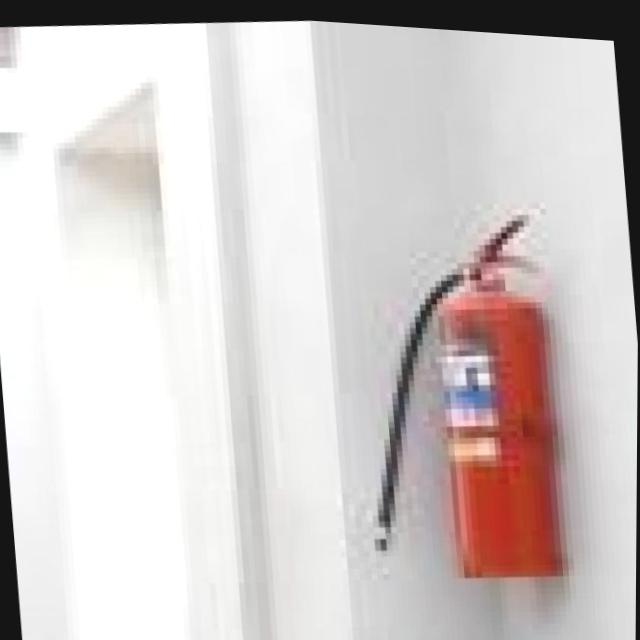FireExtinguisher: (334, 184, 572, 586)
